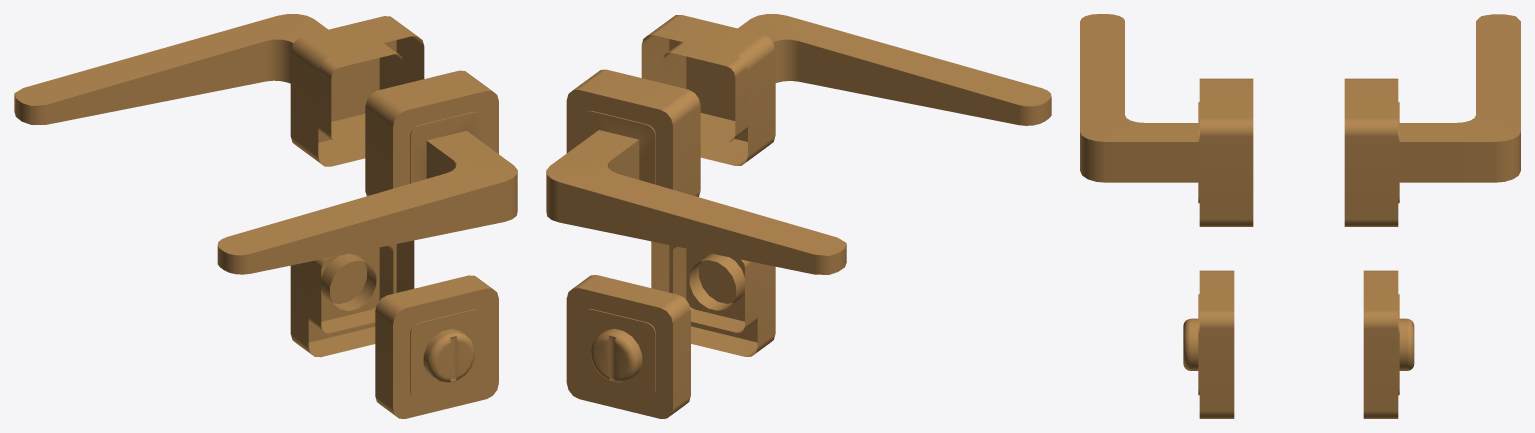
The model's file is 14_ELEGANT_BRNAK.glb.
3 renders of one model, left to right at view 1: azimuth 30°, elevation 25°; view 2: azimuth 150°, elevation 25°; view 3: azimuth 270°, elevation 25°, orthographic. The views are drawn at different scales.
Parts seen in each view (by area): view 1: 14_ELEGANT_BRNAK; view 2: 14_ELEGANT_BRNAK; view 3: 14_ELEGANT_BRNAK.
Part boxes in pixels (x1,y1,x2,y2): 14_ELEGANT_BRNAK: (14, 14, 517, 418); 14_ELEGANT_BRNAK: (546, 14, 1051, 418); 14_ELEGANT_BRNAK: (1080, 14, 1520, 418).
Size of the model in its own units: 0.1433 by 0.1292 by 0.1723.
